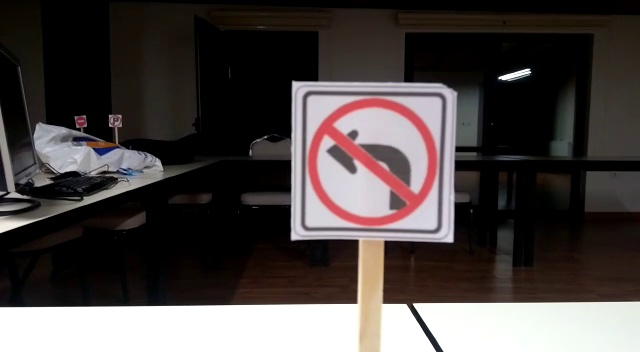sola_donulmez: (295, 86, 455, 234)
